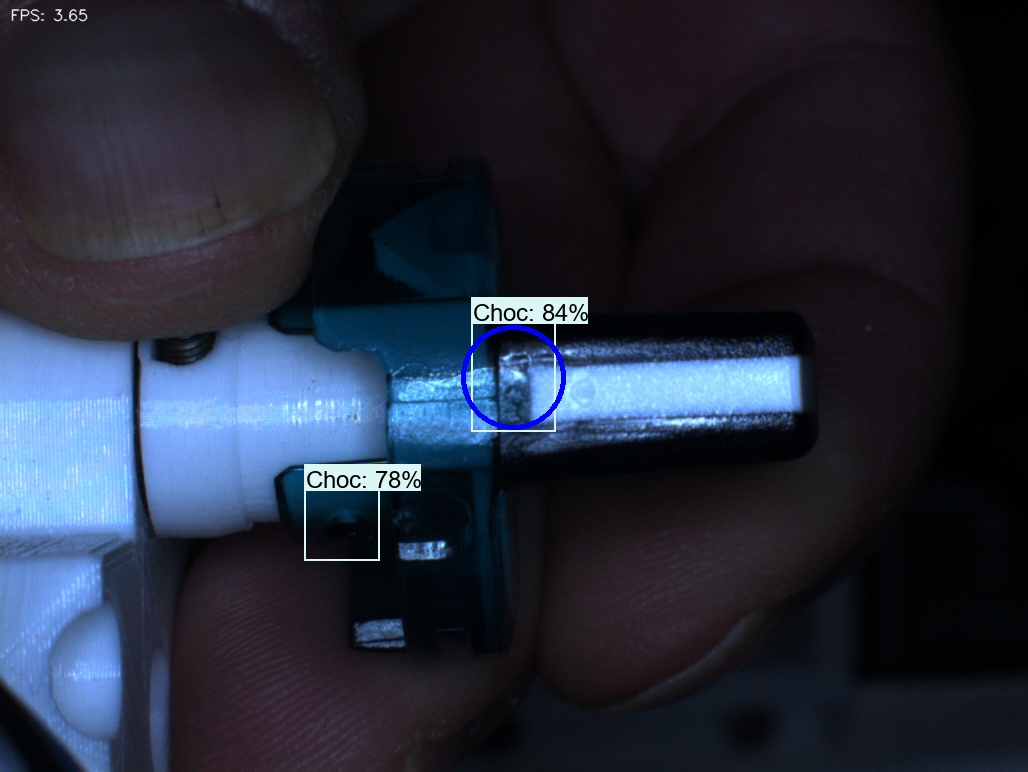DentOk: (338, 206, 420, 296)
